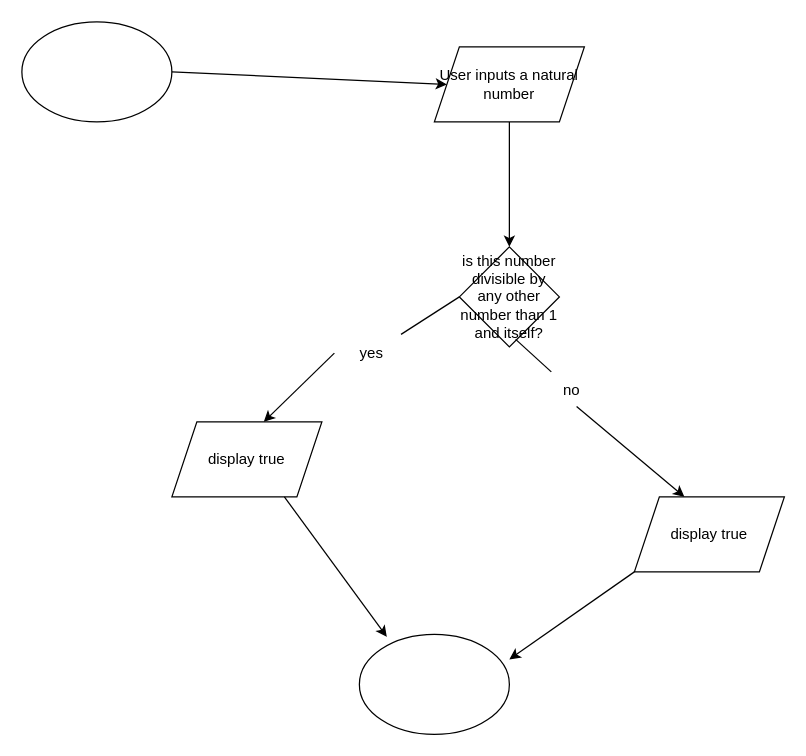
The diagram is 806 pixels wide and 756 high, and some of its shapes have lost their labels. The centre of each missing label's shape, as x and y in pixels:
end: (433,683)
Start: (96,71)
